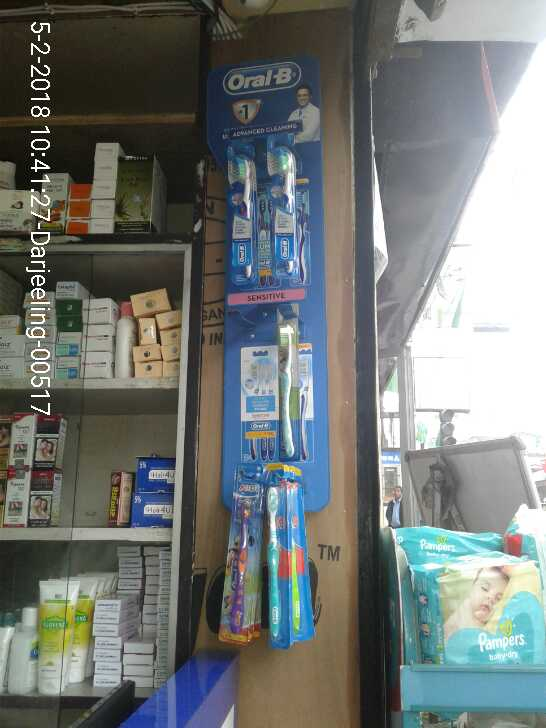pharmacy: (412, 552, 544, 664), (261, 465, 295, 649), (263, 133, 300, 281), (227, 141, 259, 288), (275, 303, 304, 462)
